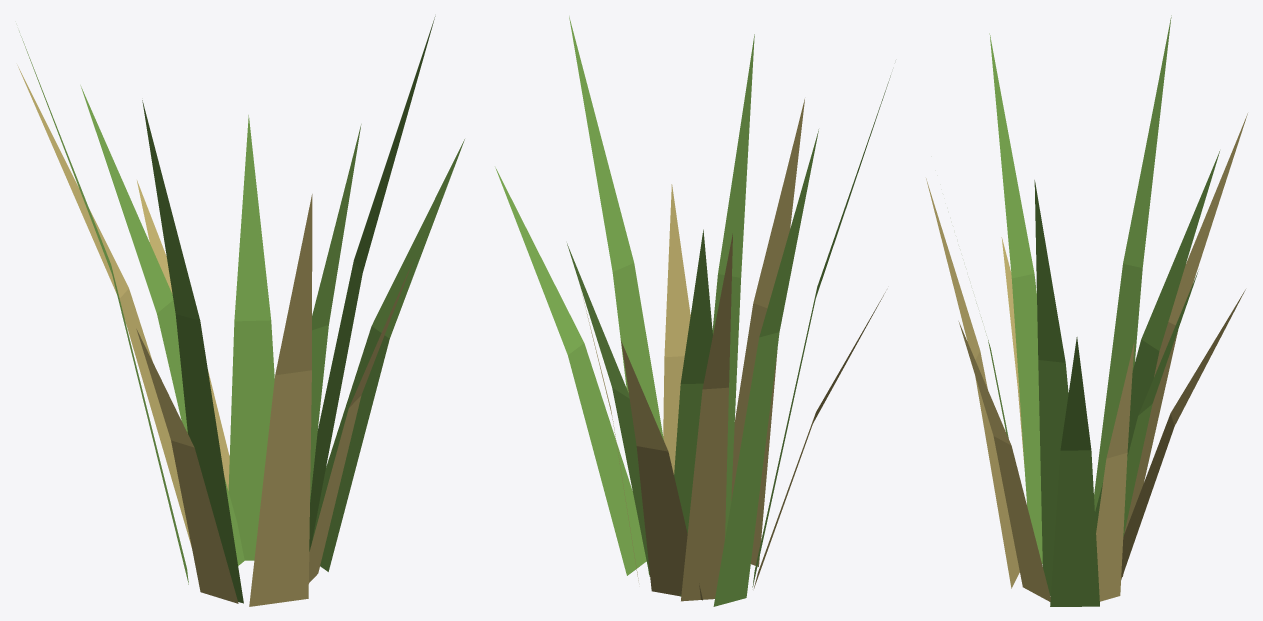
File: grass_04.glb
3 views of the same model, side by side, from view 1: azimuth 30°, elevation 25°; view 2: azimuth 150°, elevation 25°; view 3: azimuth 270°, elevation 25° (orthographic). The views are drawn at different scales.
Parts seen in each view (by area): view 1: 草_04; view 2: 草_04; view 3: 草_04.
Part boxes in pixels (x1=…): 草_04: x1=17, y1=16, x2=464, y2=606; 草_04: x1=495, y1=16, x2=890, y2=606; 草_04: x1=926, y1=15, x2=1247, y2=606.
Size of the model in its own units: 0.6343 by 0.8586 by 0.5141.
